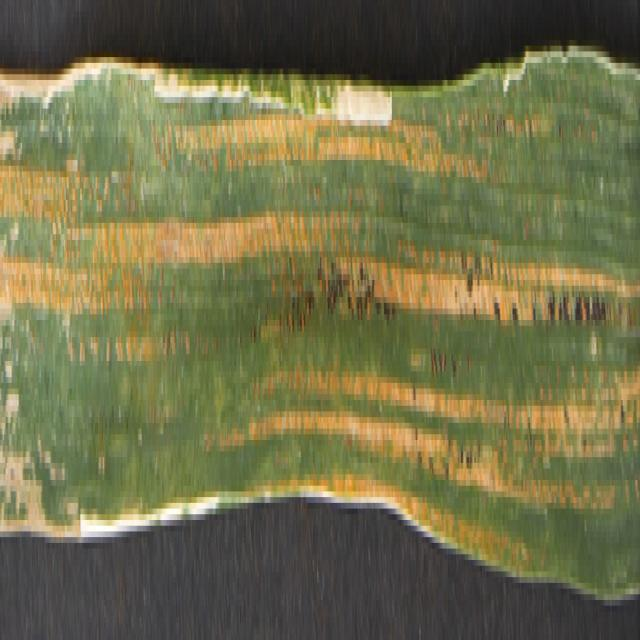leaf rust: (0, 120, 640, 548)
